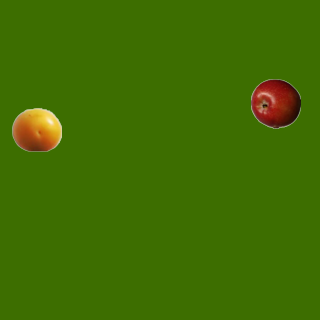Apple Braeburn: (250, 78, 300, 128)
Cherry Wax Yellow: (11, 104, 61, 154)
